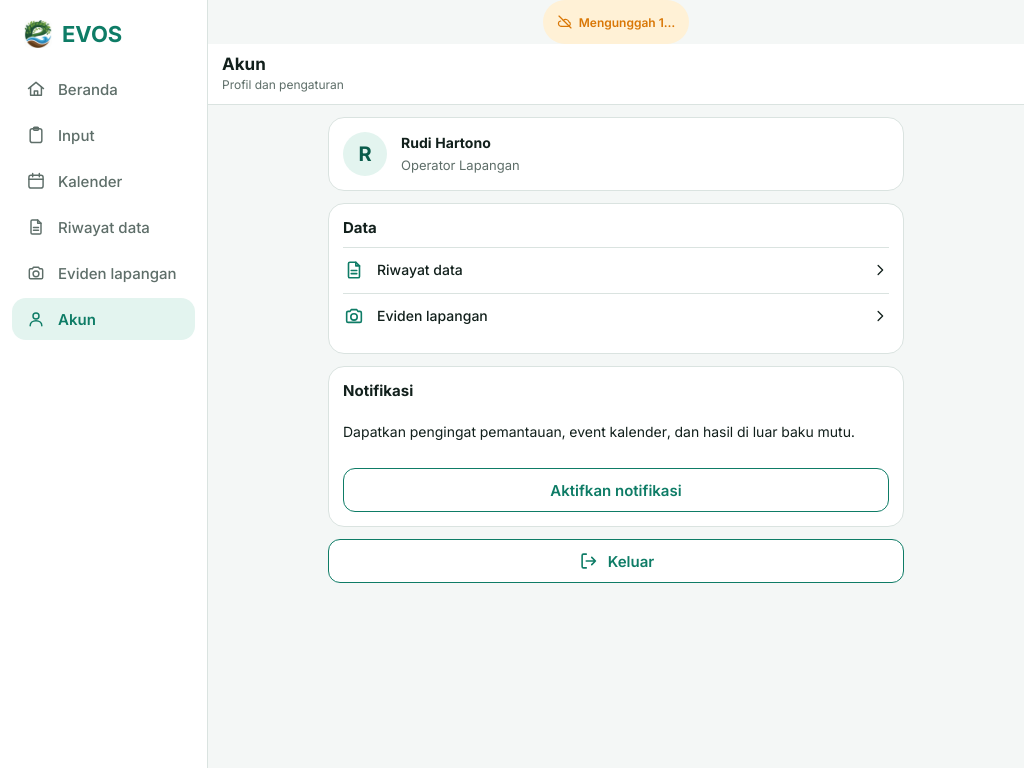
Test: Keluar with a queue › asks first, says how many are waiting, and Batal stays signed in
Later steps or results of the test are not shown.
Click the button "Keluar": (616, 561) left=328, top=539, right=904, bottom=583
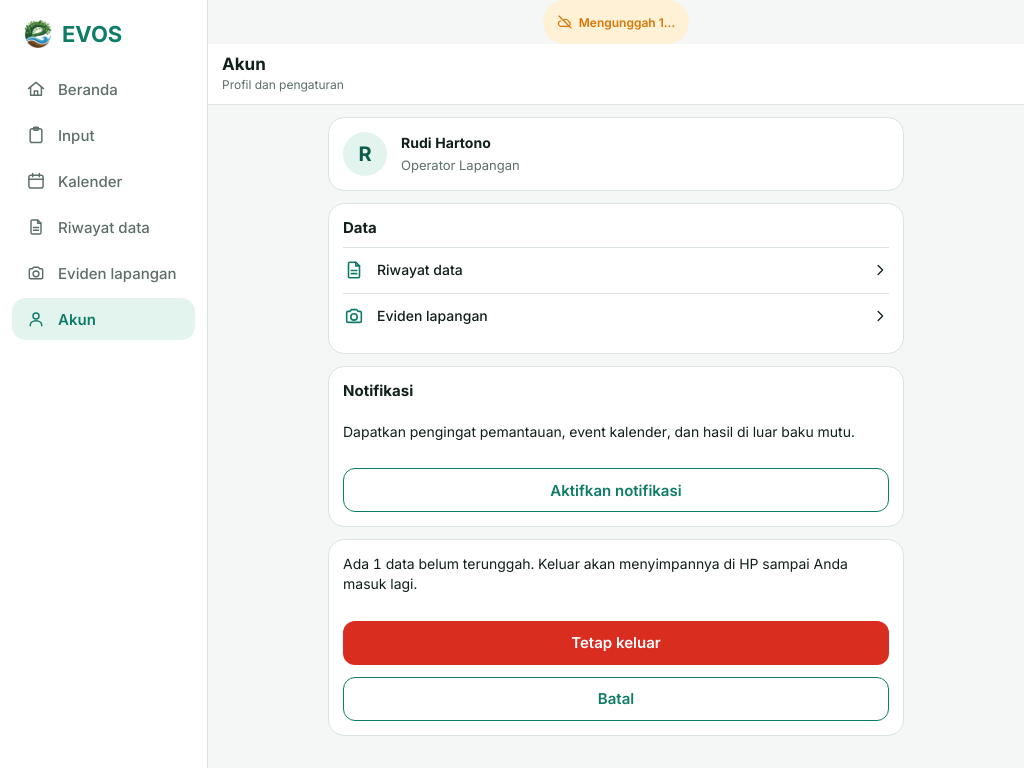
Expected: the text "Ada 1 data belum terunggah" is shown, left=343, top=554, right=889, bottom=595
